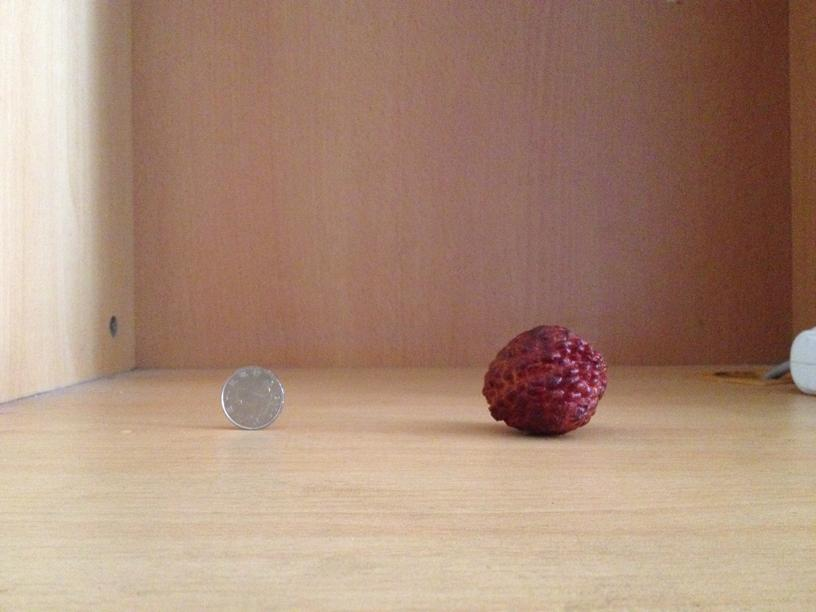coin: (218, 365, 284, 428)
litchi: (487, 327, 608, 435)
